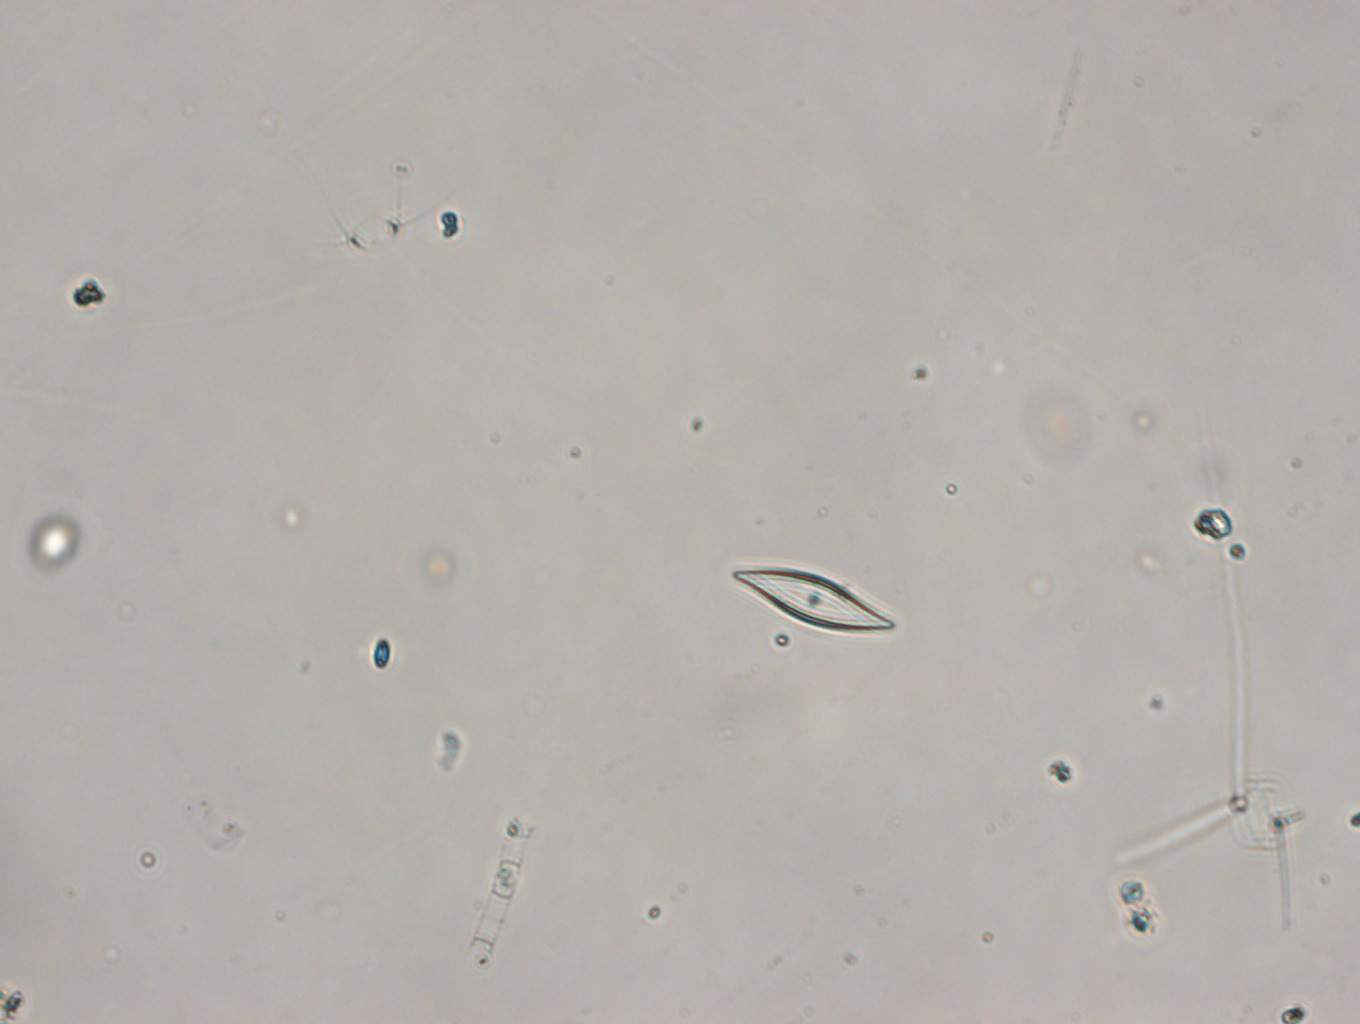pleurosigma pelagicum: (727, 554, 912, 645)
